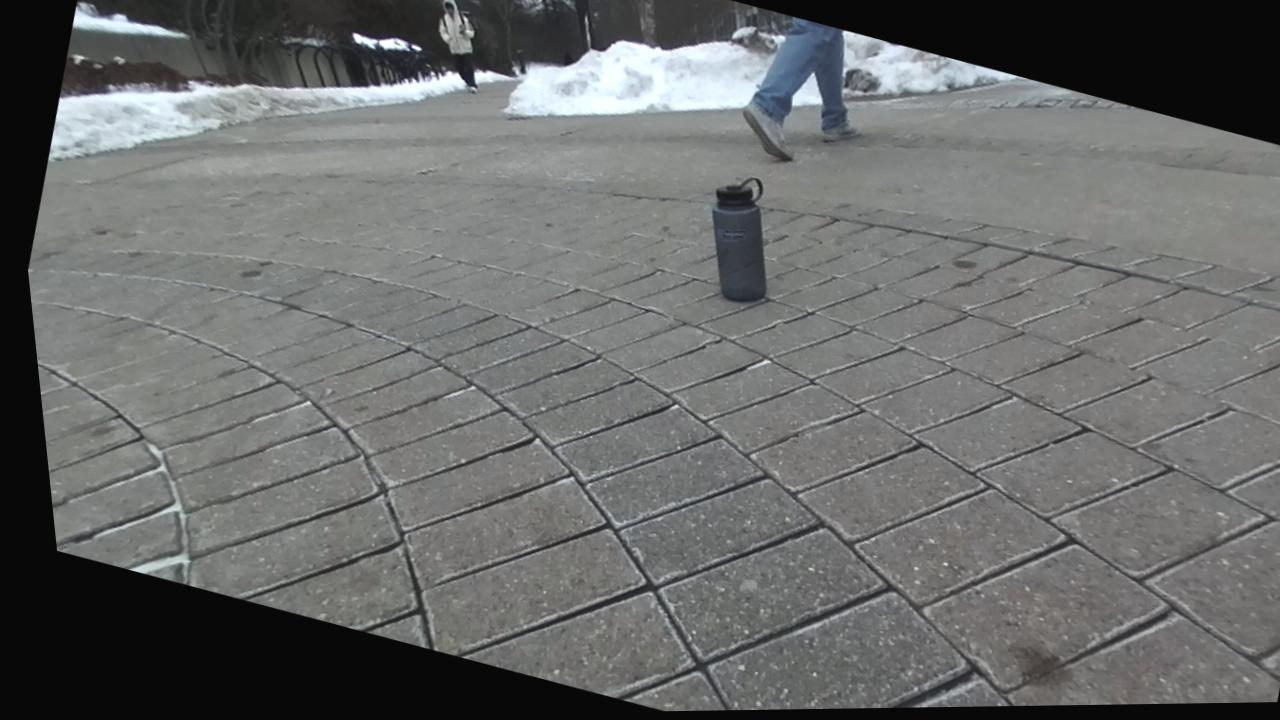bottle: (712, 178, 766, 300)
